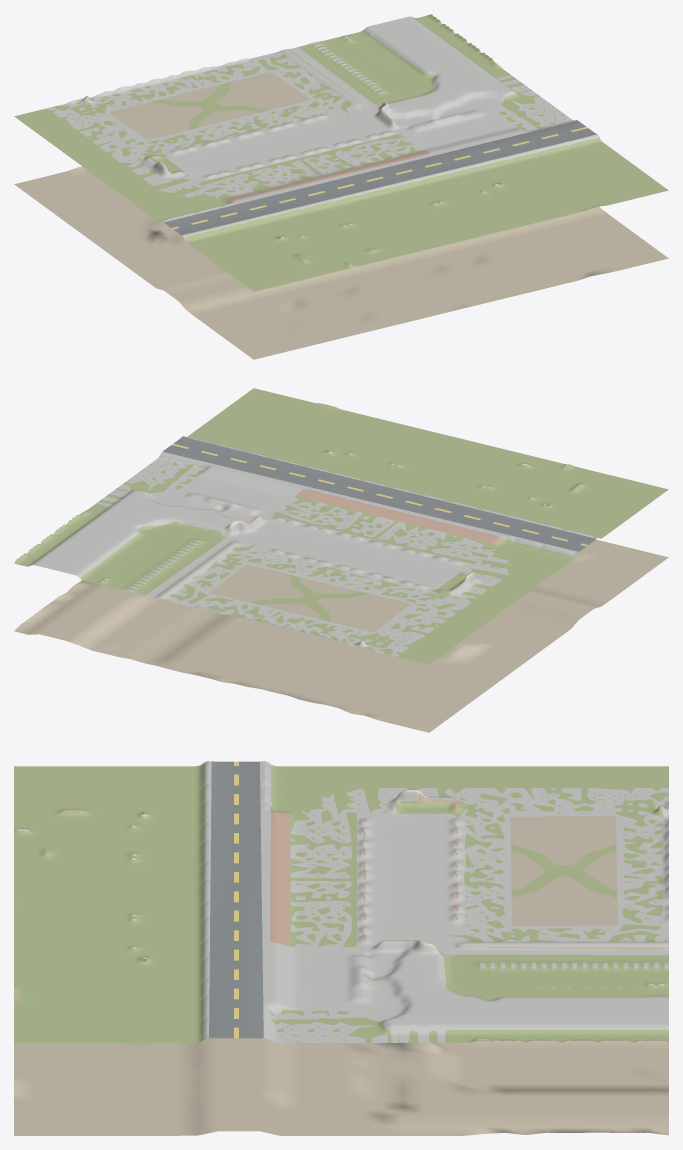
3 views of the same model, one above another, from view 1: azimuth 30°, elevation 25°; view 2: azimuth 150°, elevation 25°; view 3: azimuth 270°, elevation 25° (orthographic). The views are drawn at different scales.
Parts seen in each view (by area): view 1: s_-10_-2__grass, s_-10_-2__soil, s_-10_-2__stone_paving, s_-10_-2__asphalt, s_-10_-2__brick_paving, s_-10_-2__yellow_marking; view 2: s_-10_-2__grass, s_-10_-2__soil, s_-10_-2__stone_paving, s_-10_-2__asphalt, s_-10_-2__brick_paving, s_-10_-2__yellow_marking; view 3: s_-10_-2__grass, s_-10_-2__soil, s_-10_-2__stone_paving, s_-10_-2__asphalt, s_-10_-2__brick_paving, s_-10_-2__yellow_marking.
Boxes of the visible parts, box(x1,y1,x2,y2) form: s_-10_-2__grass: box(14, 14, 668, 291); s_-10_-2__soil: box(14, 37, 668, 359); s_-10_-2__stone_paving: box(47, 16, 599, 237); s_-10_-2__asphalt: box(164, 120, 596, 238); s_-10_-2__brick_paving: box(86, 62, 606, 261); s_-10_-2__yellow_marking: box(171, 127, 587, 229); s_-10_-2__grass: box(14, 388, 668, 664); s_-10_-2__soil: box(14, 507, 668, 732); s_-10_-2__stone_paving: box(31, 436, 597, 656); s_-10_-2__asphalt: box(162, 436, 596, 551); s_-10_-2__brick_paving: box(80, 403, 583, 641); s_-10_-2__yellow_marking: box(172, 443, 587, 546); s_-10_-2__grass: box(14, 762, 668, 1042); s_-10_-2__soil: box(14, 816, 668, 1135); s_-10_-2__stone_paving: box(203, 761, 668, 1042); s_-10_-2__asphalt: box(142, 761, 263, 1038); s_-10_-2__brick_paving: box(14, 793, 662, 1041); s_-10_-2__yellow_marking: box(234, 761, 238, 1038).
Bounding box in the file's own units: 128 × 22.73 × 128.
